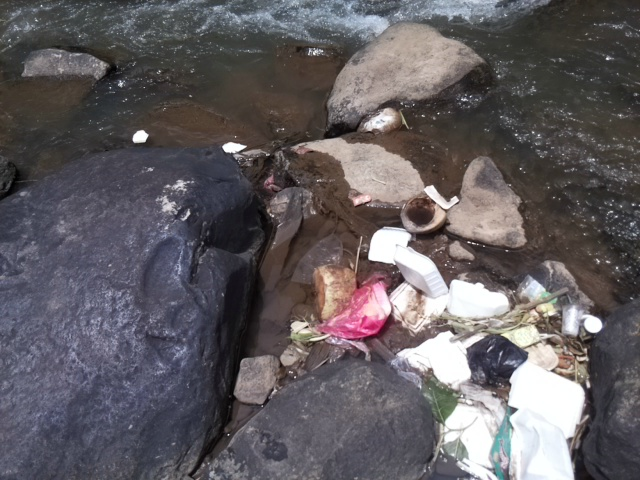Sampah_Plastik: (311, 274, 395, 339), (463, 329, 526, 389), (561, 302, 584, 340)
Sampah_Styrofoam: (505, 359, 587, 480), (393, 278, 515, 334), (408, 327, 465, 393), (391, 243, 452, 297), (366, 225, 413, 267), (423, 183, 460, 208), (222, 139, 248, 154), (130, 129, 151, 144)
